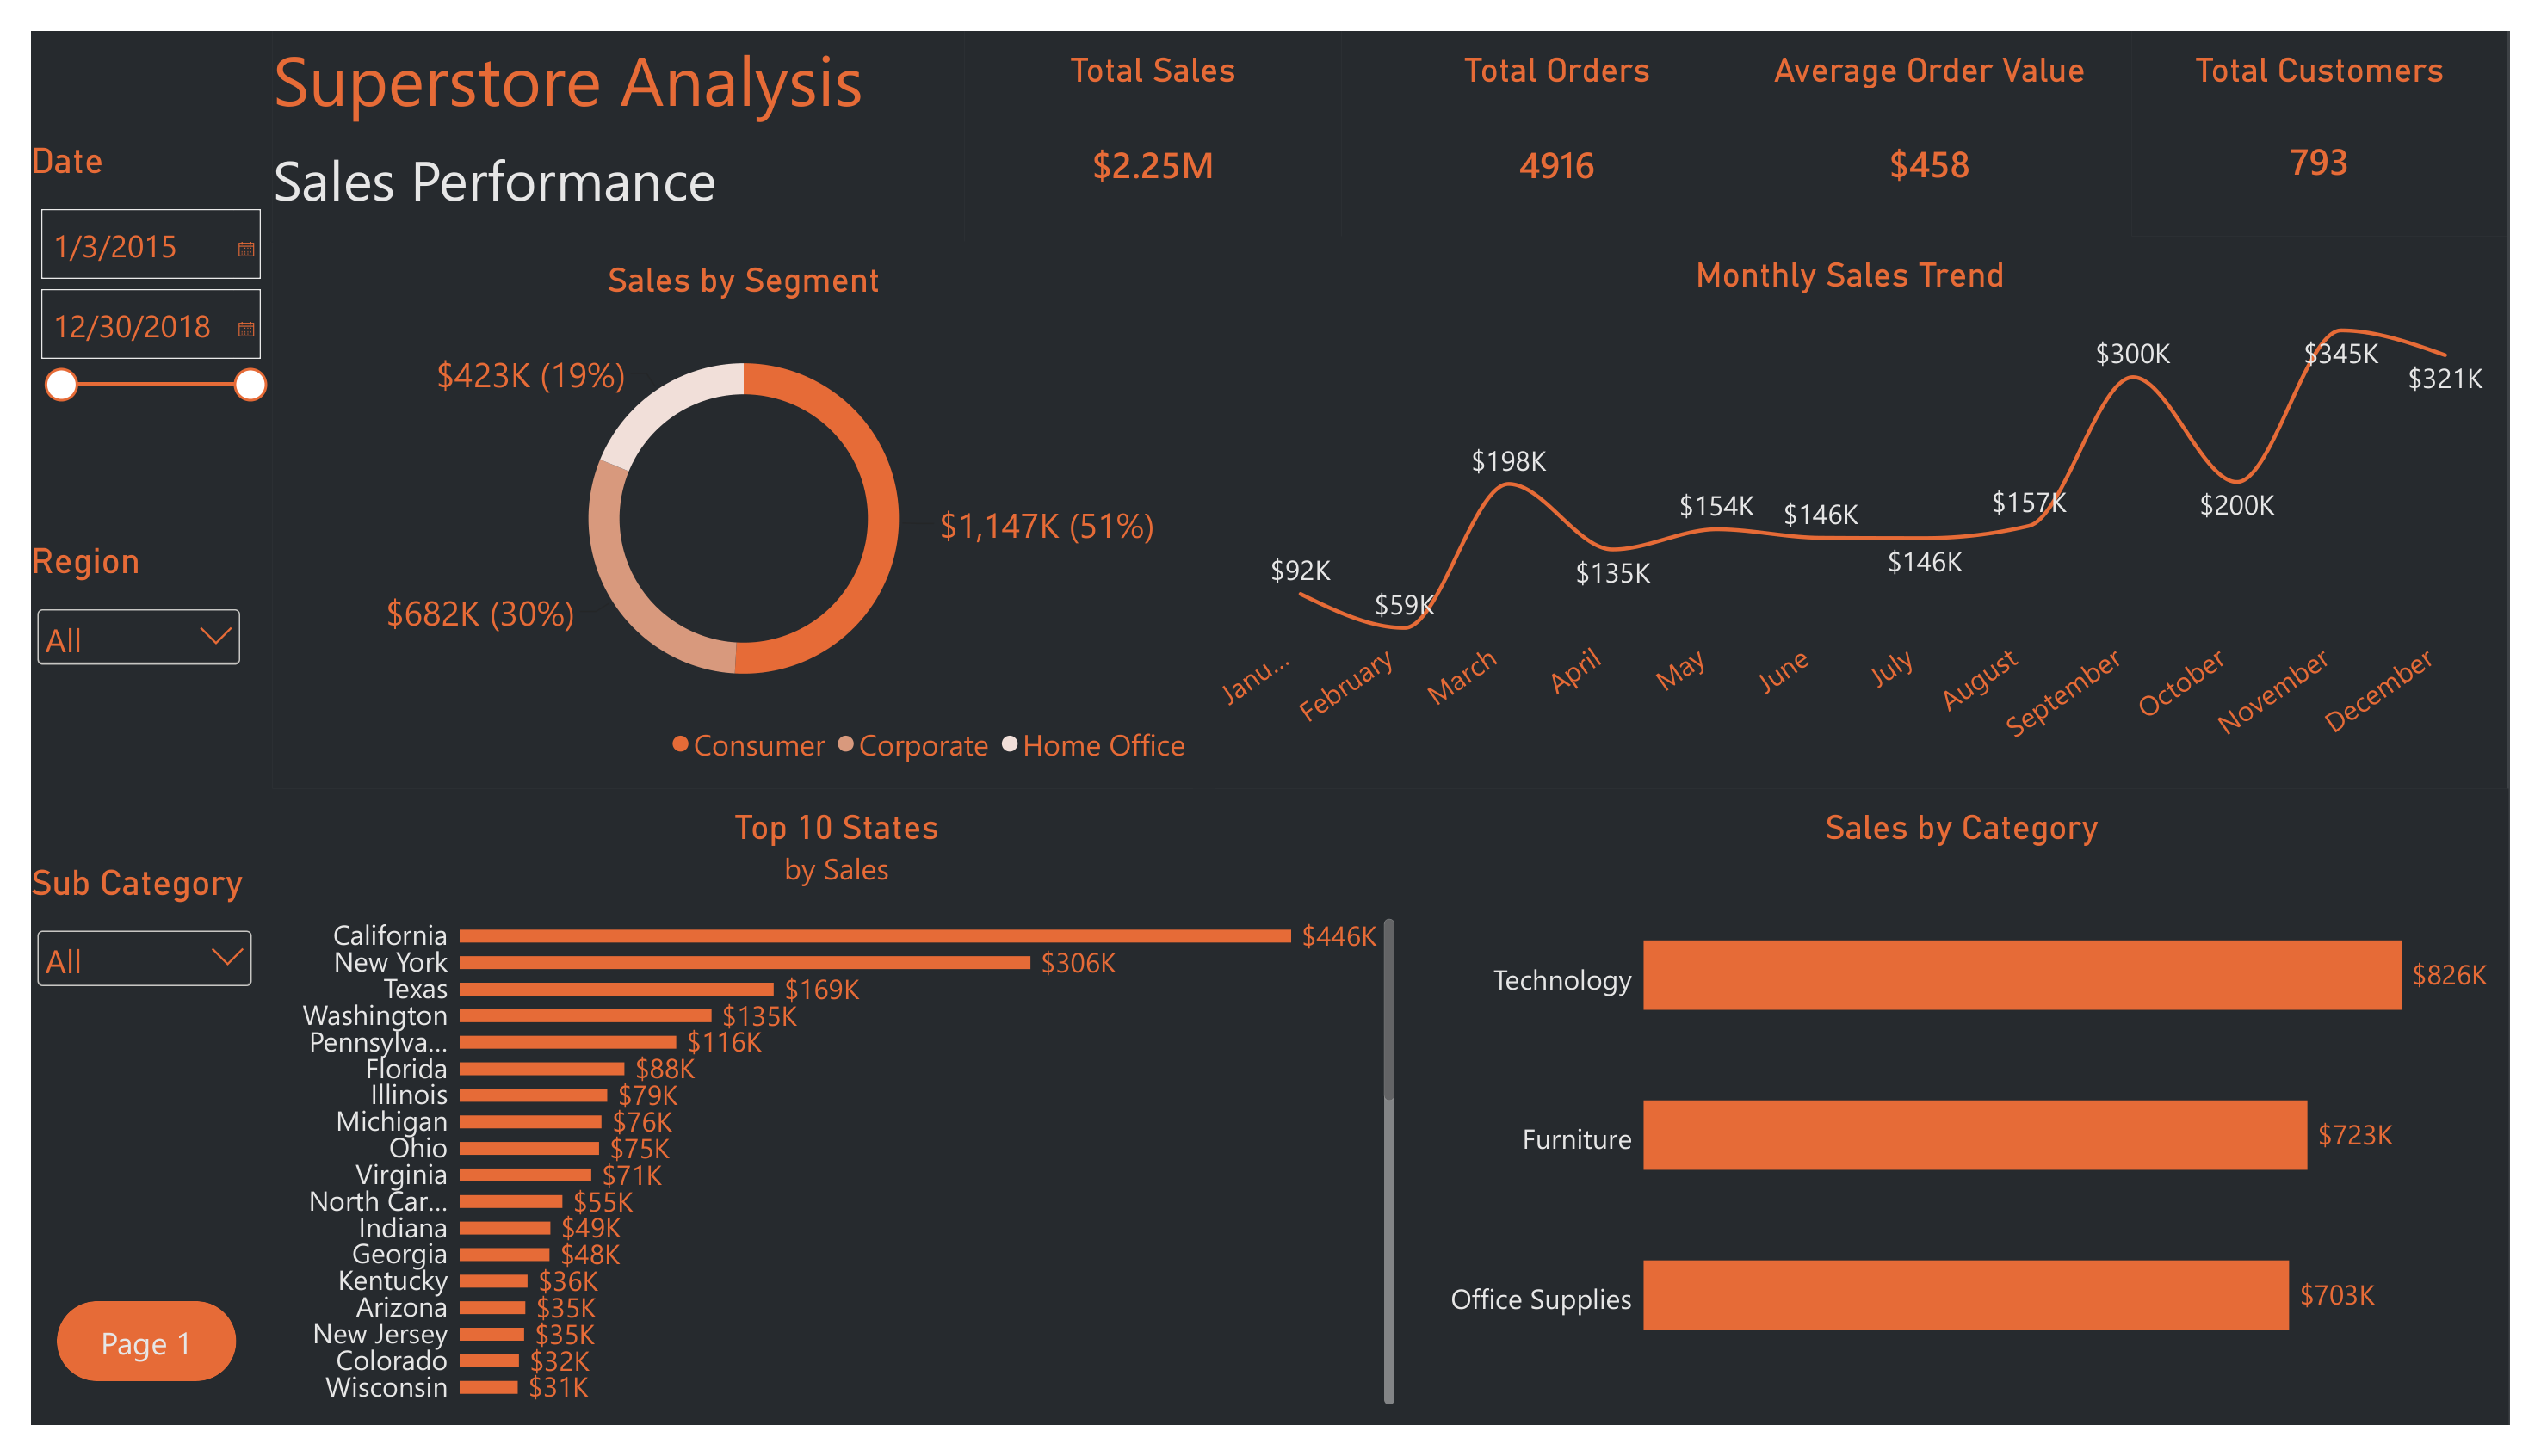

What the dashboard file says about the page in this screenshot:
{"tool":"powerbi","page":{"name":"Sales Performance","canvas":[1920,1080],"ordinal":0},"visuals":[{"type":"shape","box":[0,0,187.1,1080],"z":0},{"type":"card","title":"Total Sales","fields":{"Values":["Sum(Sheet1.sales)"]},"box":[722.8,0,292,164.4],"z":1000},{"type":"card","title":"Average Order Value","fields":{"Values":["Sheet1.Average Order Value"]},"box":[1314.5,0,312.6,163.4],"z":2000},{"type":"card","title":"Total Orders","fields":{"Values":["Count(Sheet1.order_id)"]},"box":[1014.8,0,334.5,164.4],"z":3000},{"type":"barChart","title":"Top 10 States ","fields":{"Category":["Sheet1.state"],"Y":["Sum(Sheet1.sales)"]},"box":[175.7,586.8,895.8,493.2],"z":4000},{"type":"clusteredBarChart","title":"Sales by Category","fields":{"Category":["Sheet1.category"],"Y":["Sum(Sheet1.sales)"]},"box":[1071.5,586.8,847.6,493.2],"z":5000},{"type":"lineChart","title":" Monthly Sales Trend","fields":{"Category":["Sheet1.order_date.Variation.Date Hierarchy.Year","Sheet1.order_date.Variation.Date Hierarchy.Month"],"Y":["Sum(Sheet1.sales)"]},"box":[900,158.7,1018.4,428.7],"z":6000},{"type":"donutChart","title":" Sales by Segment","fields":{"Category":["Sheet1.segment"],"Y":["Sum(Sheet1.sales)"]},"box":[187.1,163.4,729.5,424],"z":7000},{"type":"slicer","title":"Region","fields":{"Values":["Sheet1.region"]},"box":[0,394,167.2,144.6],"z":8000},{"type":"slicer","title":"Sub Category","fields":{"Values":["Sheet1.sub_category"]},"box":[0,643.5,175.7,212.6],"z":9000},{"type":"textbox","box":[187.1,0,535.8,164.4],"z":10000},{"type":"card","title":"Total Customers","fields":{"Values":["Count(Sheet1.customer_id)"]},"box":[1627.1,0,291.3,158.7],"z":11000},{"type":"textbox","box":[187.1,85,583.9,102],"z":12000},{"type":"slicer","title":"Date","fields":{"Values":["Sheet1.order_date"]},"box":[0,84,186.2,247.6],"z":13000},{"type":"actionButton","box":[19.8,983.6,138.9,62.4],"z":14000}]}

Visuals, with their boxes in screenshot pixels (x1, y1, x2, y2), scaled from the page's 1920x1080 canvas onto the 2541x1456 screenshot:
shape: 0:0:248:1455
"Total Sales" card: 956:0:1343:222
"Average Order Value" card: 1740:0:2154:220
"Total Orders" card: 1343:0:1786:222
"Top 10 States " barChart: 232:791:1418:1455
"Sales by Category" clusteredBarChart: 1418:791:2540:1455
" Monthly Sales Trend" lineChart: 1191:214:2539:792
" Sales by Segment" donutChart: 248:220:1213:792
"Region" slicer: 0:531:221:726
"Sub Category" slicer: 0:867:232:1154
textbox: 248:0:956:222
"Total Customers" card: 2154:0:2539:214
textbox: 248:114:1020:252
"Date" slicer: 0:114:246:447
actionButton: 26:1326:210:1410
